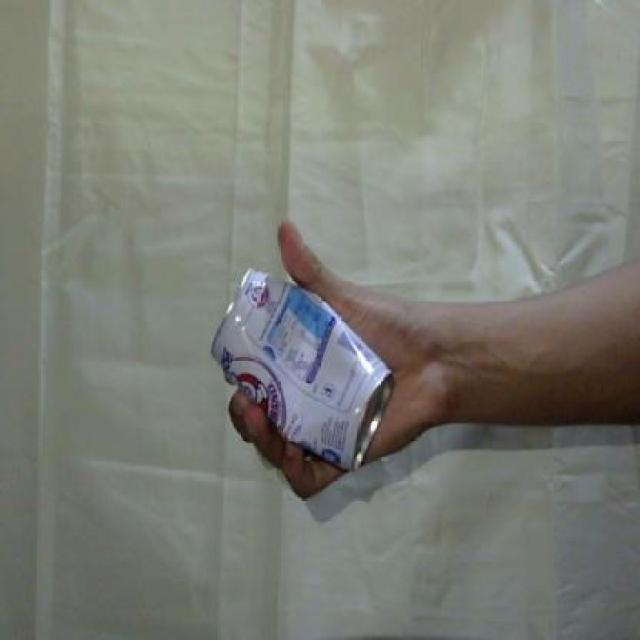Metal: (204, 261, 404, 484)
